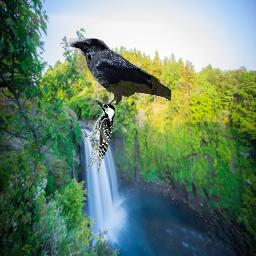Crow: (69, 38, 171, 105)
Woodpecker: (83, 99, 115, 174)
